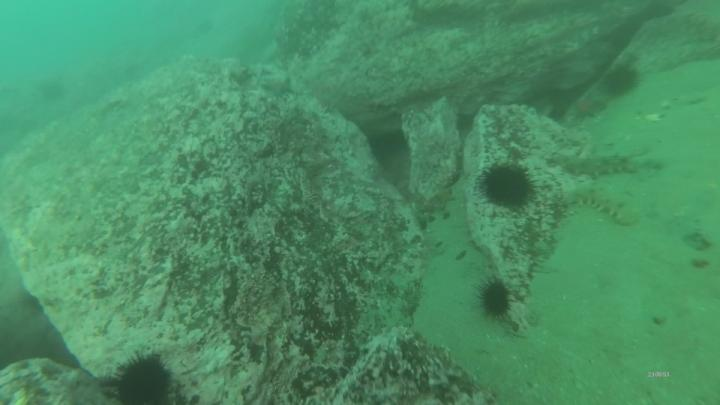echinus: (108, 350, 180, 405), (481, 161, 534, 214), (476, 281, 510, 325), (604, 63, 641, 97)
holothurian: (563, 188, 638, 227), (554, 150, 642, 181)
starfish: (260, 76, 296, 104), (574, 92, 603, 122)
